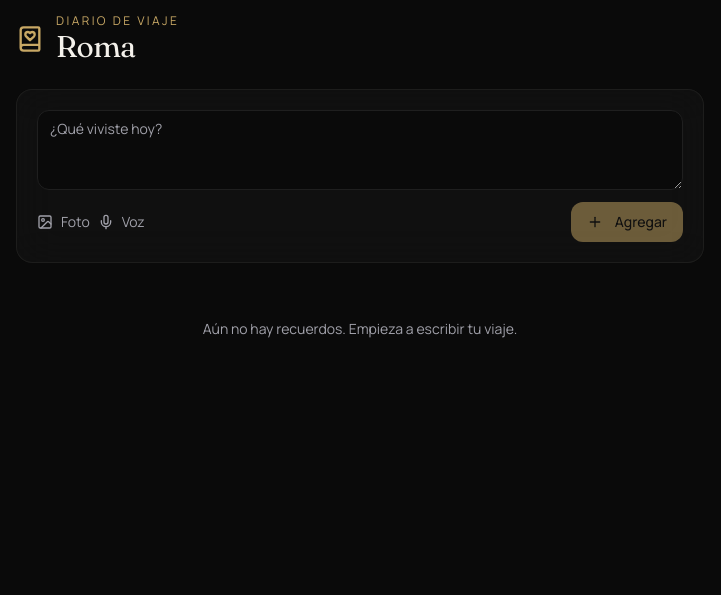
Test: IATOS aprendió de tu viaje (en el diario) › al agregar, aprende en segundo plano (sin bloquear) y muestra lo aprendido
Expected: the heading "Roma" is shown, [56,28,136,65]
Expected: the text "IATOS aprendió de tu viaje" is not shown
In the text box named "Entrada del diario": (360, 150) [37,110,683,190], type "Me encantó la cacio e pepe de Roscioli. No me gustaron las filas del Vaticano."
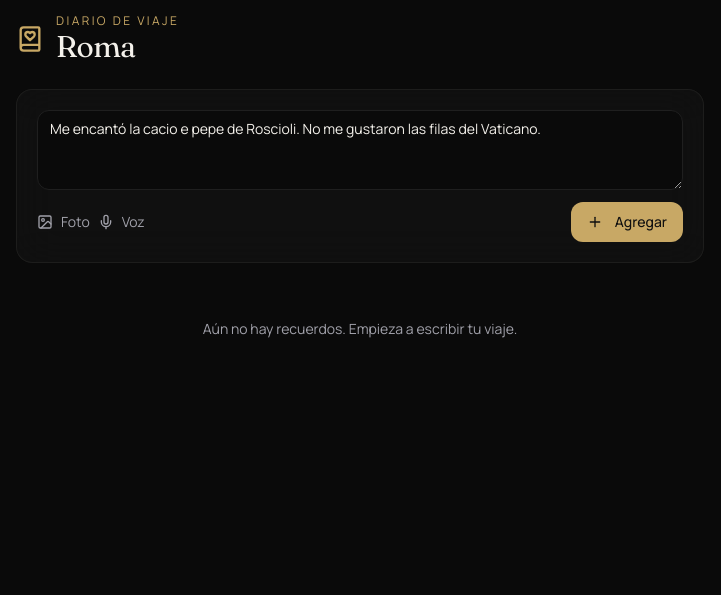
Click the button "Agregar": (627, 222) [571,202,683,242]
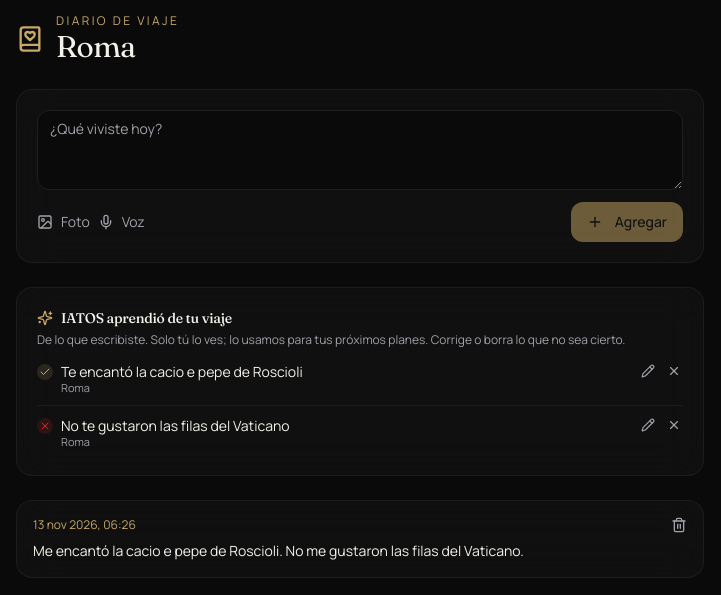
Result: the text box named "Entrada del diario" is empty at [37,110,683,190]
Result: the text "Te encantó la cacio e pepe de Roscioli" is shown at [60,361,303,381]
Result: the text "No te gustaron las filas del Vaticano" is shown at [60,415,290,435]
